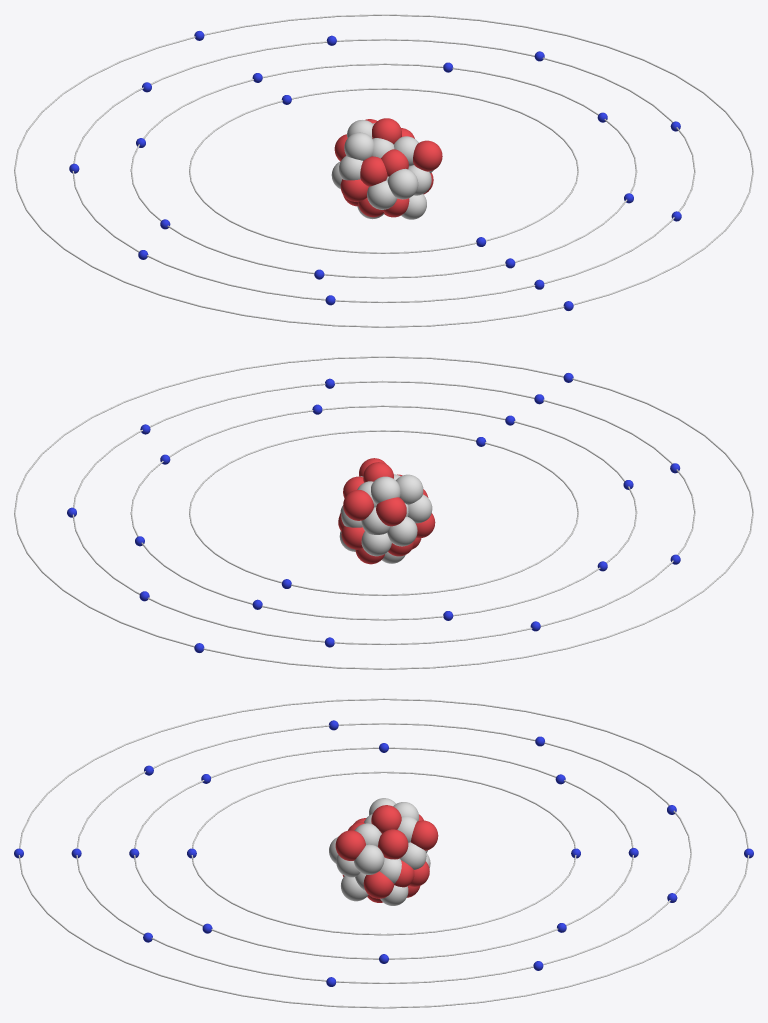
The model's file is Scandium.glb.
3 renders of one model, top to bottom at view 1: azimuth 30°, elevation 25°; view 2: azimuth 150°, elevation 25°; view 3: azimuth 270°, elevation 25°, orthographic.
Visible parts, largest first — view 1: N-Schale, M-Schale, L-Schale, K-Schale, Proton 21, Neutron 24, Neutron 20, Proton 14, Neutron 15, Proton 20; view 2: N-Schale, M-Schale, L-Schale, K-Schale, Proton 18, Proton 17, Neutron 16, Neutron 22, Neutron 20, Neutron 8; view 3: N-Schale, M-Schale, L-Schale, K-Schale, Proton 7, Proton 21, Neutron 19, Proton 20, Proton 18, Proton 11.
Boxes of the visible parts, x1,y1,x2,y2 form: N-Schale: (14,14,753,327); M-Schale: (72,38,695,303); L-Schale: (130,63,637,278); K-Schale: (189,88,578,253); Proton 21: (413,140,442,171); Neutron 24: (387,168,418,199); Neutron 20: (344,132,374,160); Proton 14: (360,156,387,186); Neutron 15: (367,180,397,209); Proton 20: (372,118,401,144); N-Schale: (14,356,753,669); M-Schale: (72,380,695,645); L-Schale: (130,405,637,620); K-Schale: (189,430,578,595); Proton 18: (343,490,373,520); Proton 17: (376,497,406,526); Neutron 16: (387,516,417,546); Neutron 22: (371,476,400,504); Neutron 20: (396,474,423,504); Neutron 8: (361,531,391,556); N-Schale: (18,698,749,1008); M-Schale: (76,723,691,983); L-Schale: (134,747,633,959); K-Schale: (191,771,576,935); Proton 7: (378,829,408,859); Proton 21: (335,830,365,860); Neutron 19: (354,844,384,874); Proton 20: (371,805,401,833); Proton 18: (411,820,438,850); Proton 11: (363,871,394,898).
Bounding box in the file's own units: 19.04 × 2.7 × 19.26.
